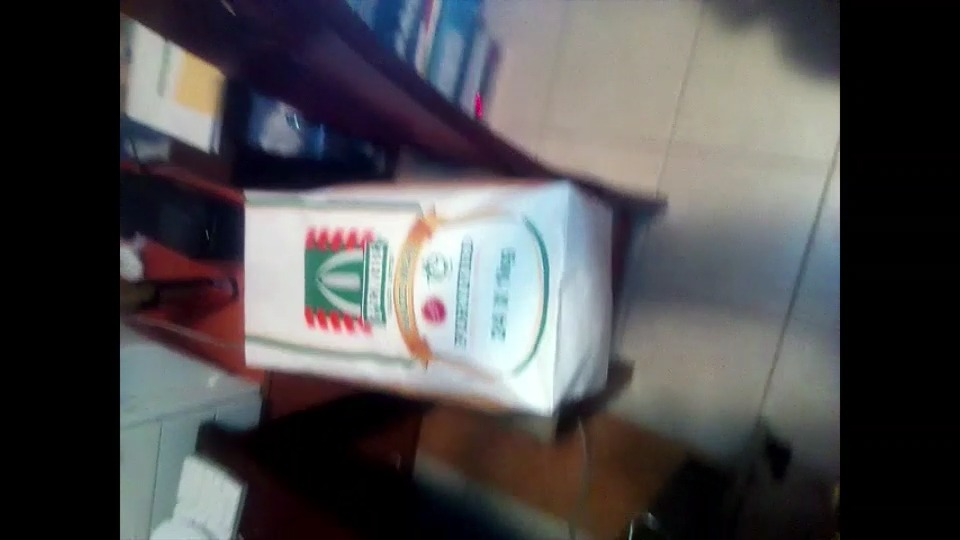maize_flour_green_label: (241, 181, 609, 412)
